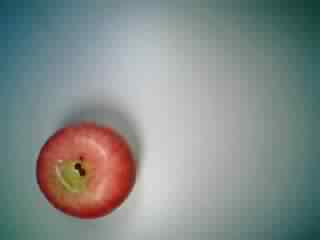apple: (34, 124, 137, 220)
